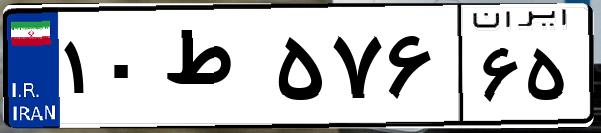0: (110, 28, 158, 98)
1: (57, 26, 110, 100)
5: (270, 28, 330, 110), (525, 38, 570, 115)
6: (385, 28, 445, 110), (475, 38, 525, 113)
7: (330, 28, 385, 110)
ط: (158, 20, 270, 120)
